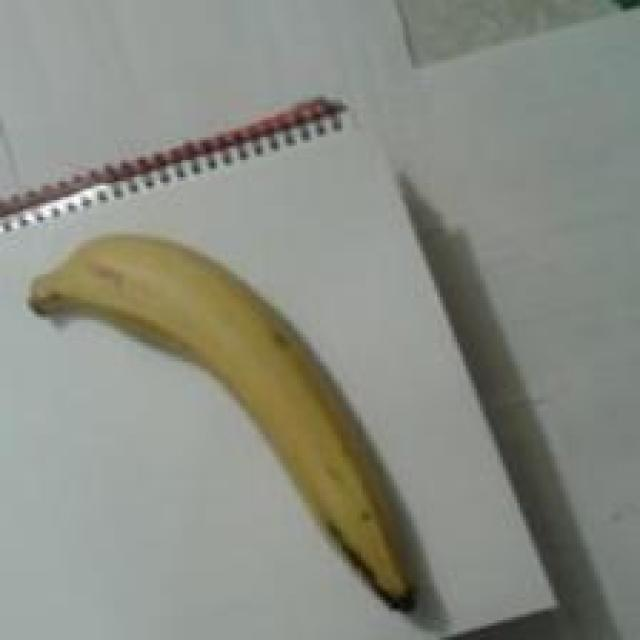banana: (22, 226, 444, 632)
